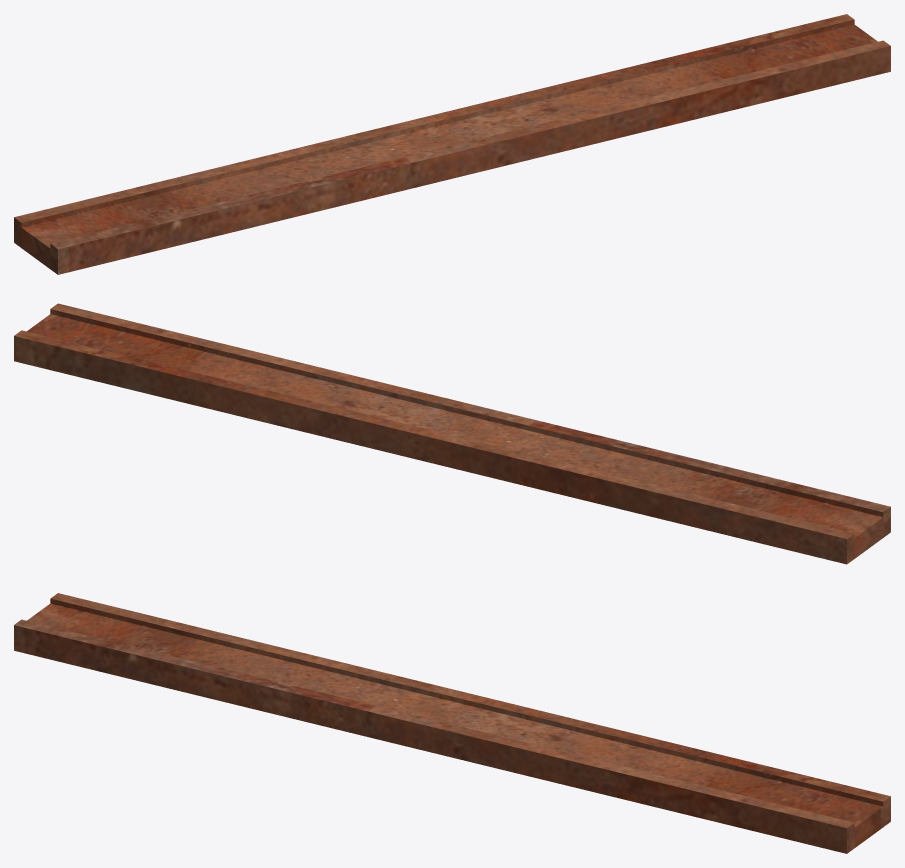
File: barra de hierrofbx.fbx
3 renders of one model, top to bottom at view 1: azimuth 30°, elevation 25°; view 2: azimuth 150°, elevation 25°; view 3: azimuth 330°, elevation 25°, orthographic.
Visible parts, largest first — view 1: iron; view 2: iron; view 3: iron.
Boxes of the visible parts, x1=… form: iron: x1=14, y1=14, x2=890, y2=274; iron: x1=14, y1=303, x2=890, y2=564; iron: x1=14, y1=593, x2=890, y2=853.
Bounding box in the file's own units: 408 × 12.03 × 37.35.
